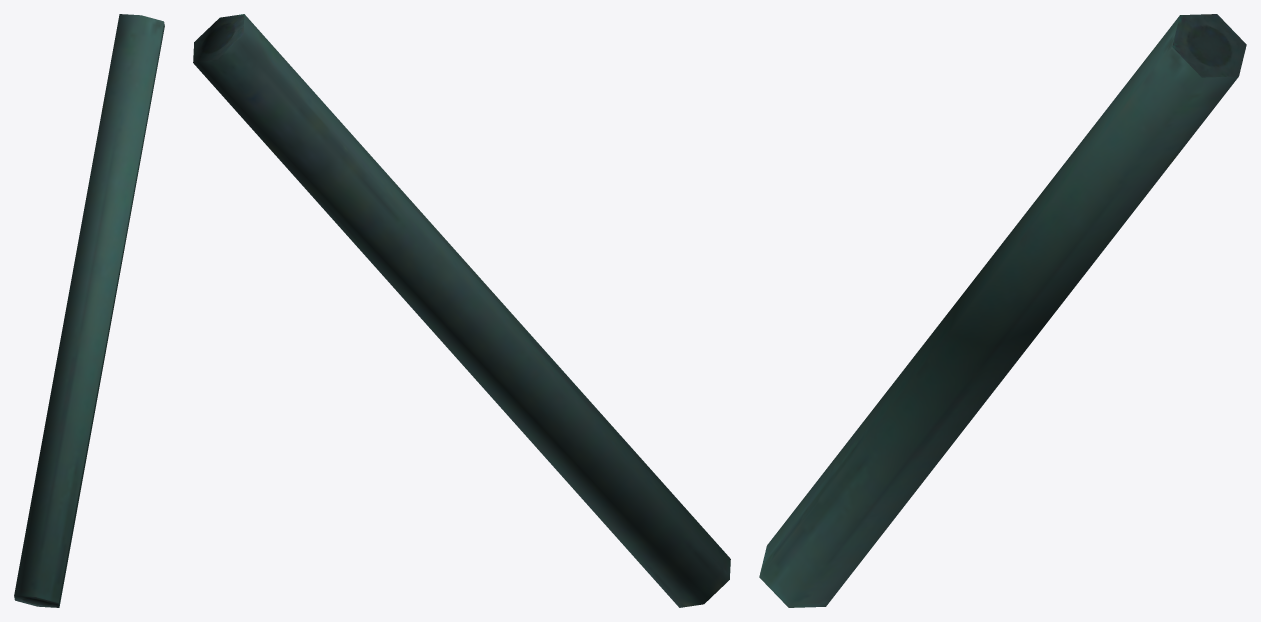
File: reinforced_pipe_01_6824789e__junkyard_diffuse_03_d_12958aa0_c1f257.obj
3 views of the same model, side by side, from view 1: azimuth 30°, elevation 25°; view 2: azimuth 150°, elevation 25°; view 3: azimuth 270°, elevation 25° (orthographic). The views are drawn at different scales.
Bounding box in the file's own units: 3.18 × 5.17 × 3.
Materials: 1 (1 with a texture image).
